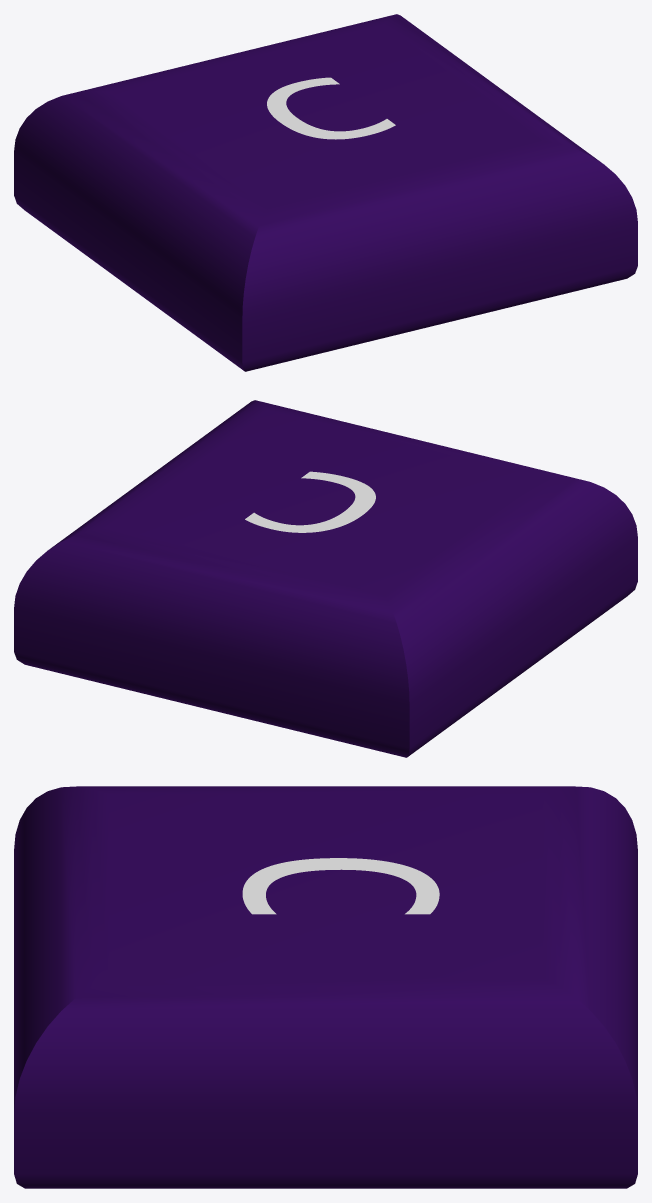
Rendered from c-key.glb.
The picture shows the model from 3 angles, top to bottom: view 1: azimuth 30°, elevation 25°; view 2: azimuth 150°, elevation 25°; view 3: azimuth 270°, elevation 25°; orthographic projection. The views are drawn at different scales.
Visible parts, largest first — view 1: Cube, Text; view 2: Cube, Text; view 3: Cube, Text.
Part boxes in pixels (x1,y1,x2,y2): Cube: (14,14,637,371); Text: (267,77,395,139); Cube: (14,400,637,757); Text: (245,471,375,532); Cube: (14,786,637,1188); Text: (242,858,439,914).
Size of the model in its own units: 1.34 by 0.4228 by 1.34.
